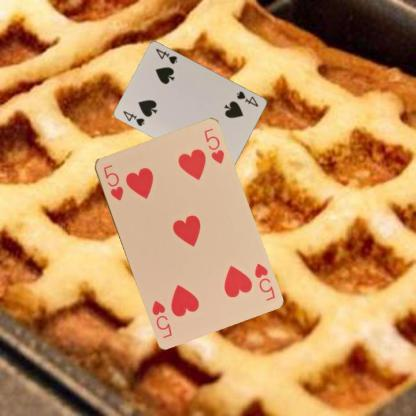4s: (235, 88, 260, 108), (121, 108, 146, 127)
5h: (100, 162, 125, 202), (252, 261, 276, 302)
